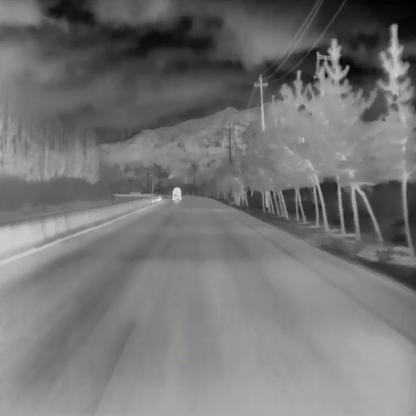car: (170, 186, 181, 200)
